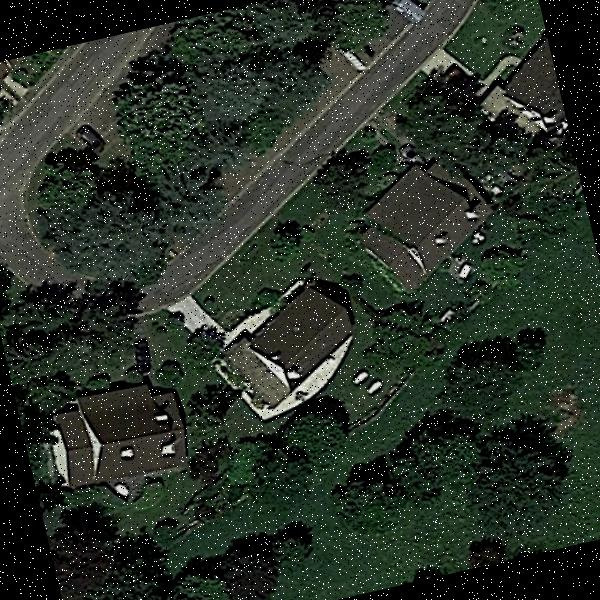Buildings: (354, 156, 494, 292), (237, 278, 366, 409), (46, 382, 195, 493), (493, 34, 563, 118)
